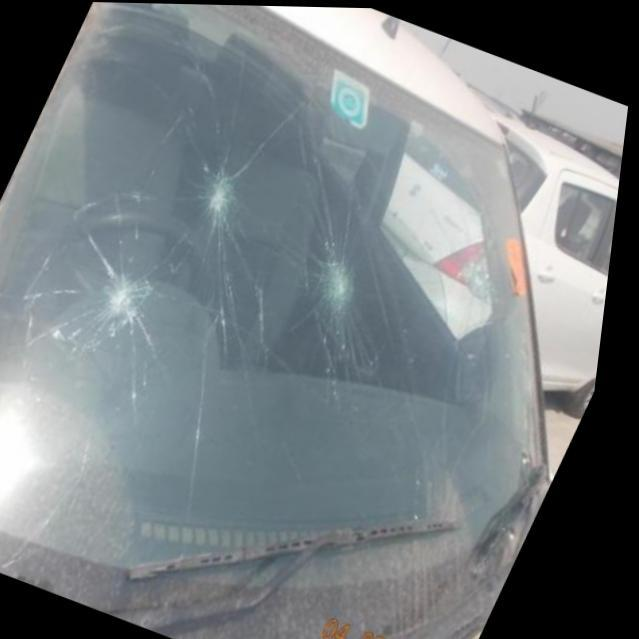glass shatter: (36, 240, 204, 397), (160, 136, 286, 268), (275, 208, 389, 341), (467, 250, 505, 303)
